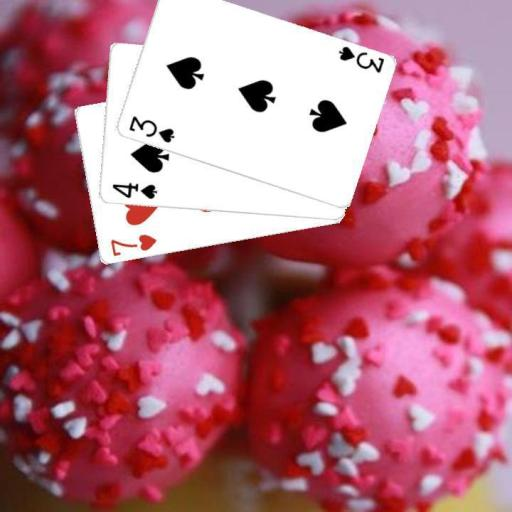card-corner: (125, 113, 176, 145), (335, 42, 385, 74), (107, 231, 158, 258), (109, 180, 158, 201)
